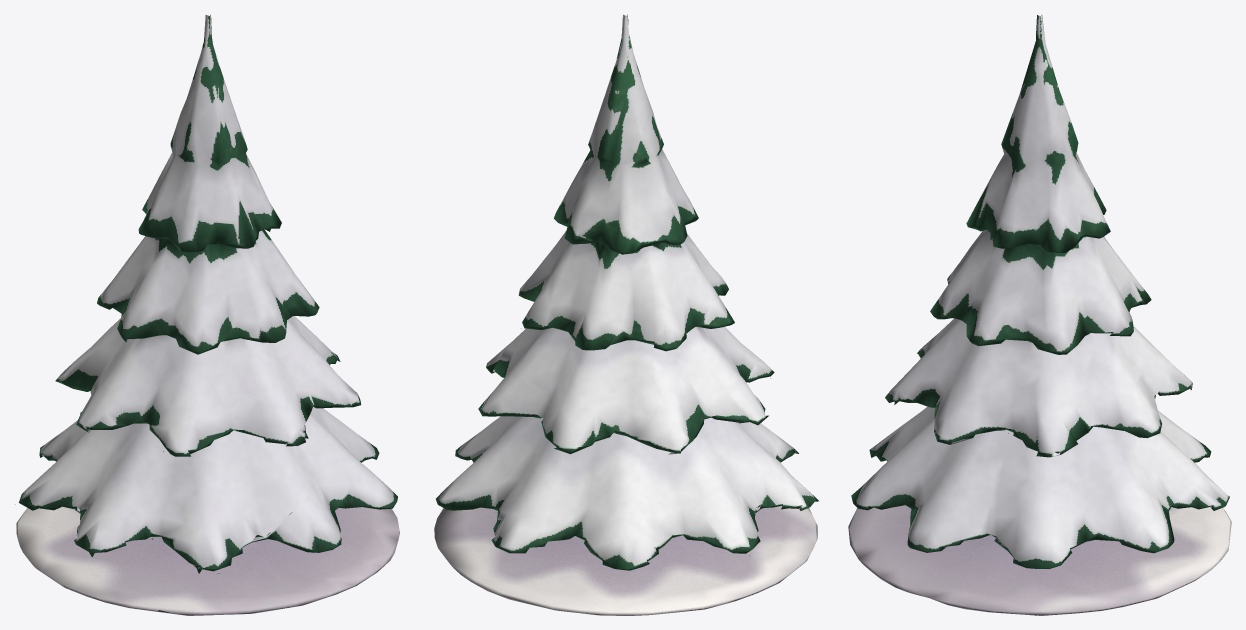
Rendered from tree_snowy.glb.
3 views of the same model, side by side, from view 1: azimuth 30°, elevation 25°; view 2: azimuth 150°, elevation 25°; view 3: azimuth 270°, elevation 25° (orthographic).
Parts seen in each view (by area): view 1: Foliage, Snow; view 2: Foliage, Snow; view 3: Foliage, Snow.
Boxes of the visible parts, x1,y1,x2,y2 form: Foliage: (15, 14, 397, 573); Snow: (16, 506, 399, 615); Foliage: (436, 14, 818, 570); Snow: (434, 506, 817, 615); Foliage: (851, 14, 1229, 568); Snow: (848, 505, 1231, 615).
Bounding box in the file's own units: 2.55 × 3.77 × 2.52.
Materials: 1 (1 with a texture image).
